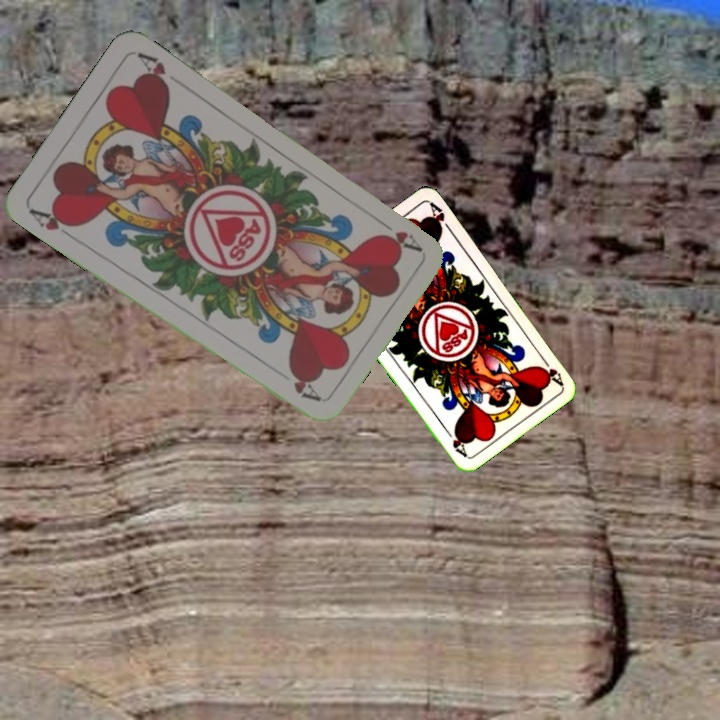HA: (371, 214, 423, 254), (25, 204, 81, 234), (534, 352, 565, 388)
